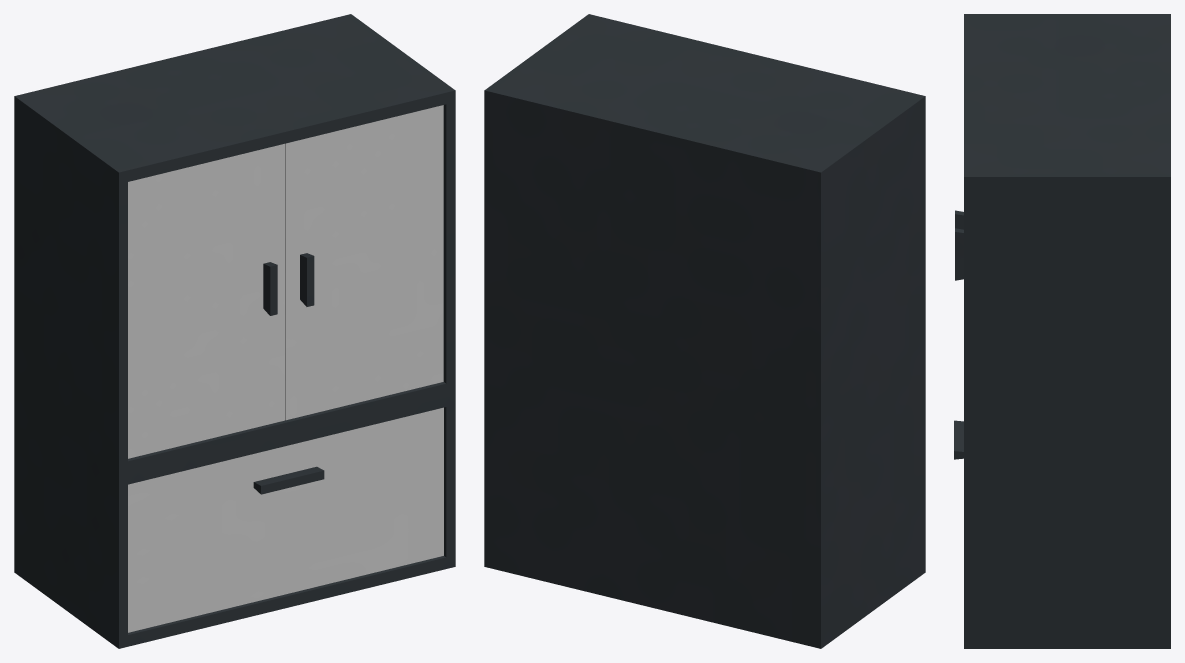
File: Closet_02_03.fbx
3 renders of one model, left to right at view 1: azimuth 30°, elevation 25°; view 2: azimuth 150°, elevation 25°; view 3: azimuth 270°, elevation 25°, orthographic.
Parts seen in each view (by area): view 1: Closet_02_03, Closet_02_Door_Bottom.001, Closet_Door_Upper_L.001, Closet_02_Door_Upper_R.001; view 2: Closet_02_03; view 3: Closet_02_03, Closet_Door_Upper_L.001, Closet_02_Door_Bottom.001.
Part boxes in pixels (bbox=[...]): Closet_02_03: bbox=[14, 14, 455, 648]; Closet_02_Door_Bottom.001: bbox=[128, 407, 443, 632]; Closet_Door_Upper_L.001: bbox=[285, 105, 443, 420]; Closet_02_Door_Upper_R.001: bbox=[128, 143, 284, 458]; Closet_02_03: bbox=[484, 14, 925, 648]; Closet_02_03: bbox=[964, 14, 1170, 648]; Closet_Door_Upper_L.001: bbox=[955, 228, 963, 280]; Closet_02_Door_Bottom.001: bbox=[954, 420, 963, 459].
Bounding box in the file's own units: 1.44 × 1.94 × 0.8096.
